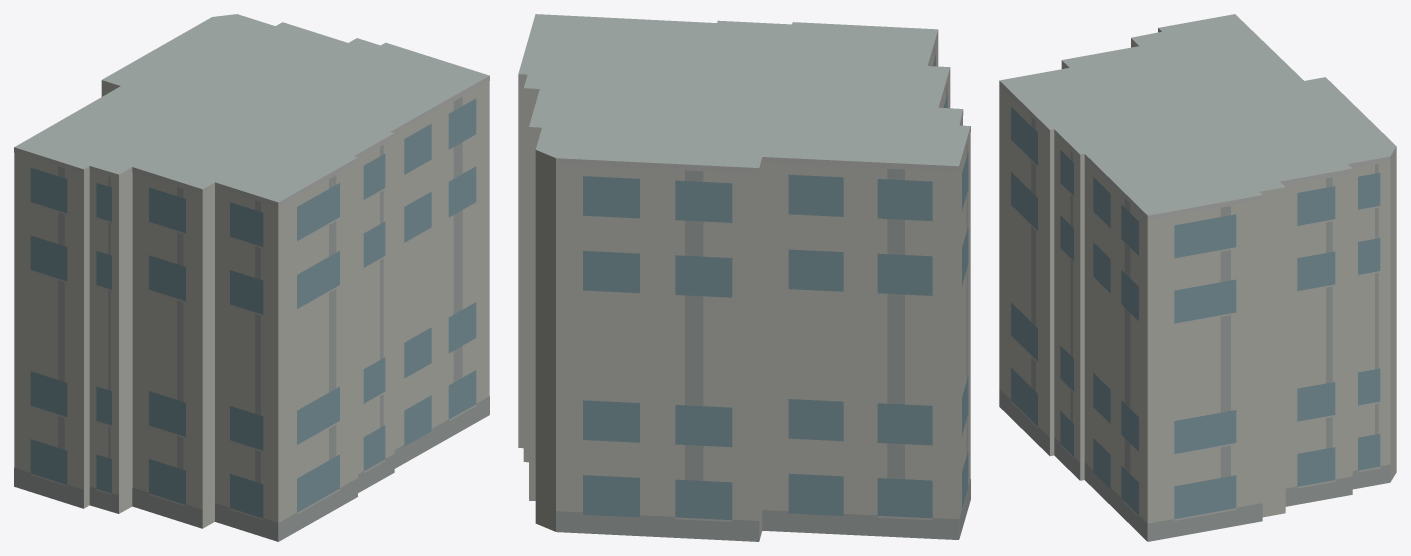
Rendered from survey-upis-32906254.glb.
3 renders of one model, left to right at view 1: azimuth 30°, elevation 25°; view 2: azimuth 150°, elevation 25°; view 3: azimuth 270°, elevation 25°, orthographic. The views are drawn at different scales.
Parts seen in each view (by area): view 1: survey-upis-32906254.tmp; view 2: survey-upis-32906254.tmp; view 3: survey-upis-32906254.tmp.
Boxes of the visible parts, x1,y1,x2,y2 form: survey-upis-32906254.tmp: (14,14,489,541); survey-upis-32906254.tmp: (518,14,970,541); survey-upis-32906254.tmp: (999,14,1396,541).
Size of the model in its own units: 20.3 by 15.3 by 16.9.
